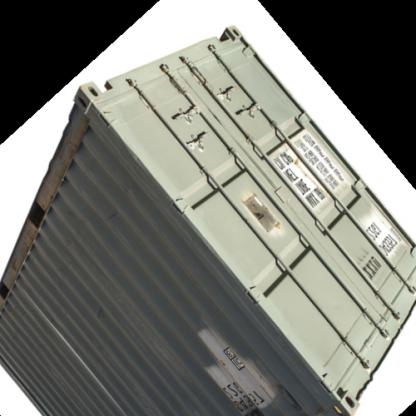Damage: (26, 118, 82, 235), (9, 237, 36, 306)
